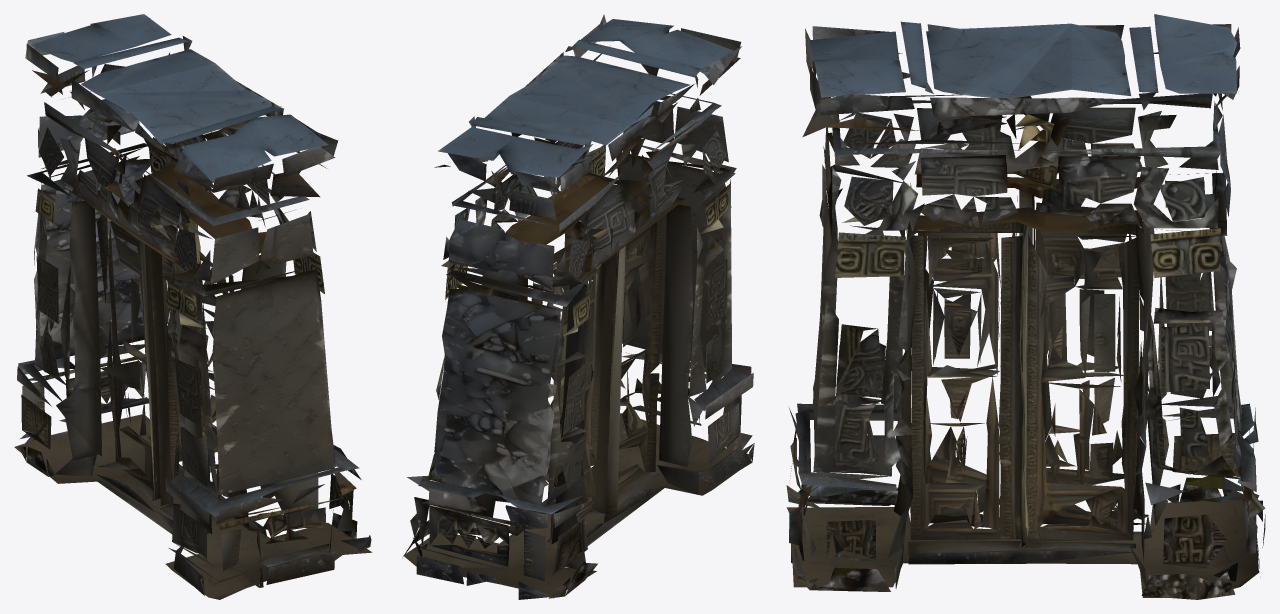
File: ch2_inscribed_vaelor_gate_LOD3.glb
3 renders of one model, left to right at view 1: azimuth 30°, elevation 25°; view 2: azimuth 150°, elevation 25°; view 3: azimuth 270°, elevation 25°, orthographic. The views are drawn at different scales.
Visible parts, largest first — view 1: tripo_node_77248afa-edcf-4560-a30d-d174774ffb73; view 2: tripo_node_77248afa-edcf-4560-a30d-d174774ffb73; view 3: tripo_node_77248afa-edcf-4560-a30d-d174774ffb73.
Boxes of the visible parts, x1,y1,x2,y2 form: tripo_node_77248afa-edcf-4560-a30d-d174774ffb73: (14, 14, 372, 599); tripo_node_77248afa-edcf-4560-a30d-d174774ffb73: (402, 14, 754, 599); tripo_node_77248afa-edcf-4560-a30d-d174774ffb73: (786, 14, 1265, 599).
Size of the model in its own units: 0.427 by 1.02 by 0.8932.
Materials: 1 (1 with a texture image).
